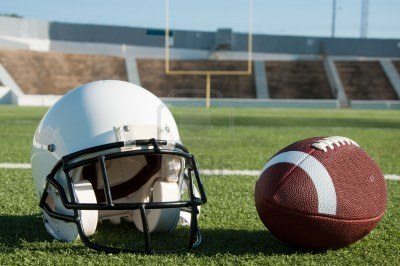futbol americano: (256, 136, 387, 251)
